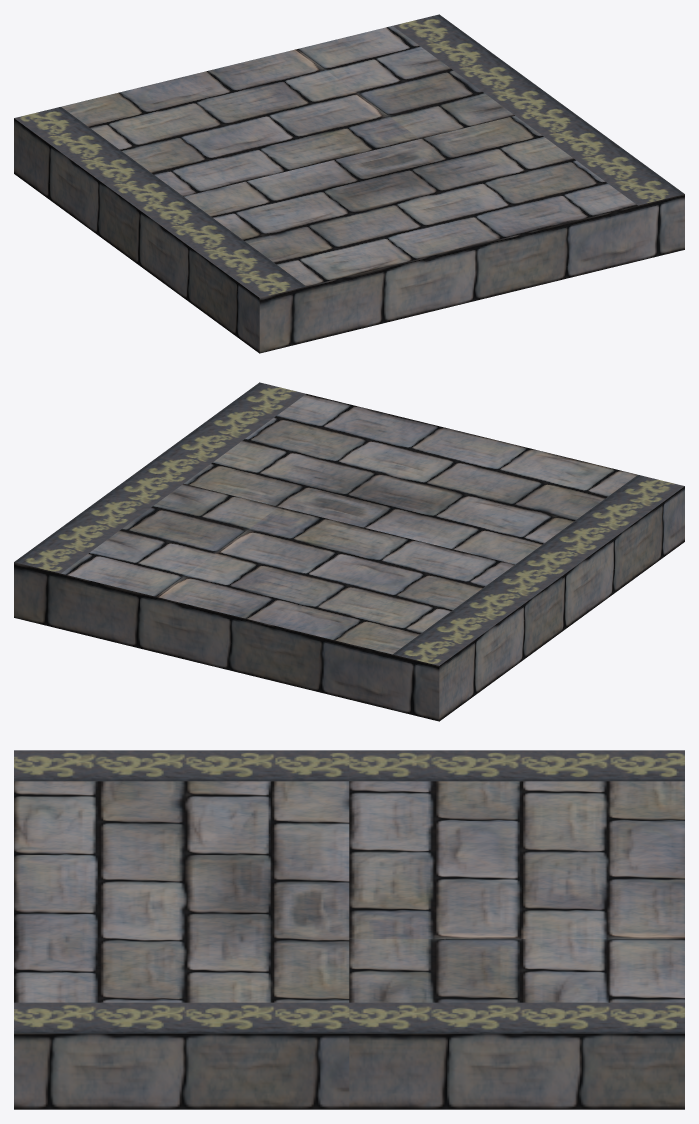
The model's file is floor_03.fbx.
3 views of the same model, one above another, from view 1: azimuth 30°, elevation 25°; view 2: azimuth 150°, elevation 25°; view 3: azimuth 270°, elevation 25° (orthographic). The views are drawn at different scales.
Visible parts, largest first — view 1: floor_03; view 2: floor_03; view 3: floor_03.
Part boxes in pixels (x1,y1,x2,y2): floor_03: [14, 14, 684, 353]; floor_03: [14, 382, 684, 721]; floor_03: [14, 750, 684, 1109].
Size of the model in its own units: 800 by 100 by 800.
